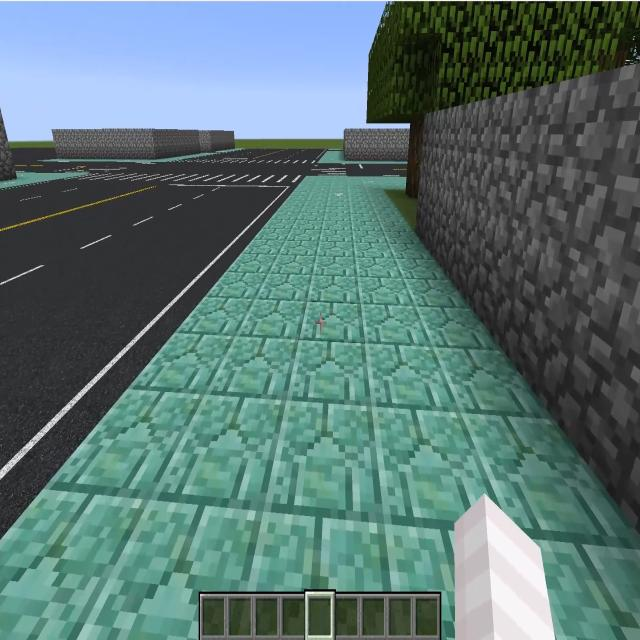crosswalk: (64, 173, 306, 183), (193, 159, 313, 163), (307, 165, 347, 175)
road: (0, 182, 296, 540), (11, 150, 311, 171), (204, 150, 326, 158), (349, 165, 407, 176)
sidewalk: (0, 176, 640, 639), (45, 149, 242, 163), (0, 173, 88, 186), (357, 178, 406, 191), (320, 153, 348, 162), (328, 149, 341, 149)
